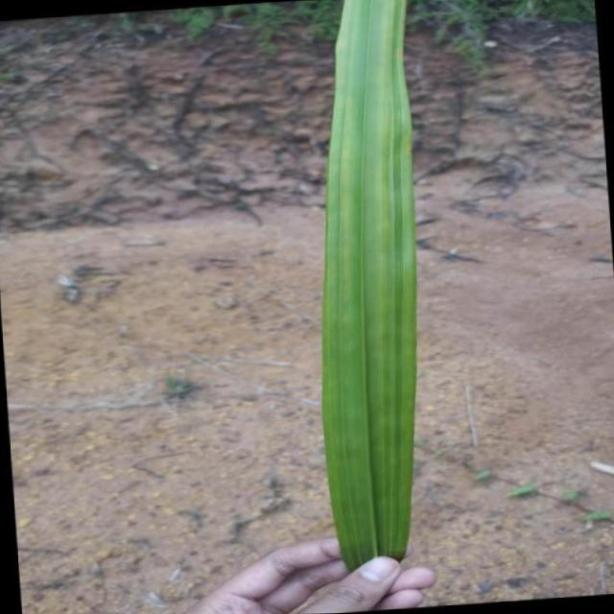nitrogen: (325, 0, 419, 550)
